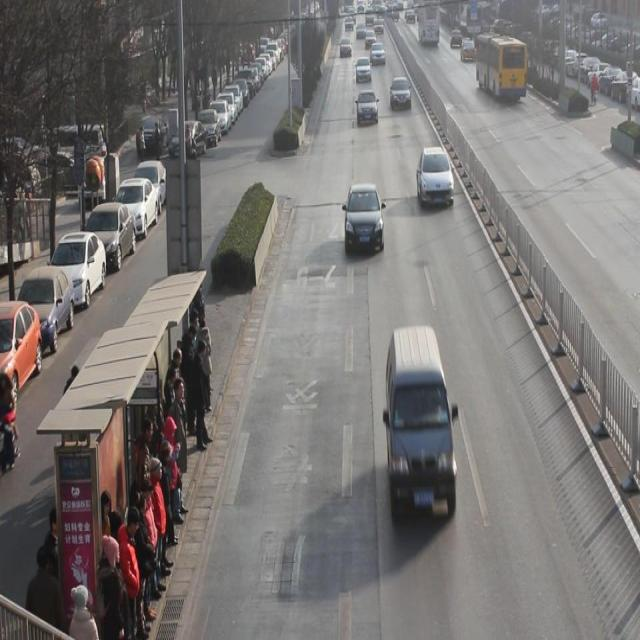car: (345, 184, 384, 254), (417, 146, 454, 210), (390, 77, 412, 114), (356, 91, 378, 126), (356, 56, 372, 84)
truck: (386, 326, 457, 524)
van: (475, 34, 525, 104)
